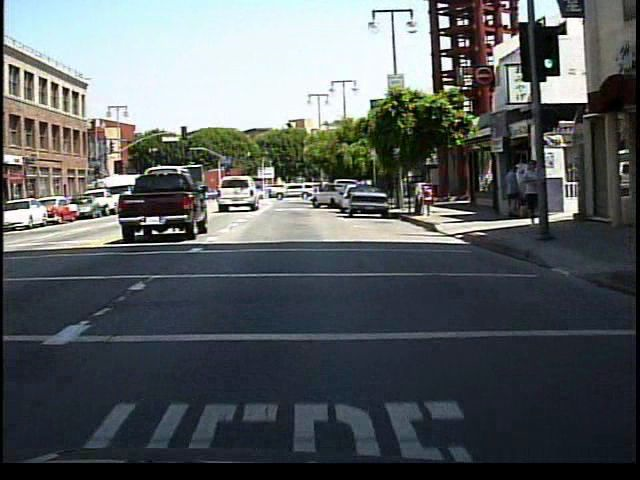person: (516, 156, 540, 228), (501, 163, 519, 222)
